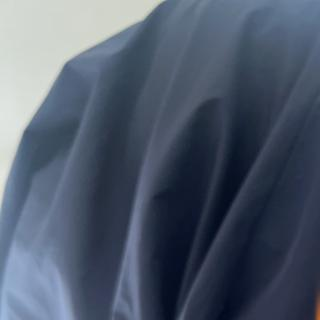fire: (309, 292, 320, 320)
